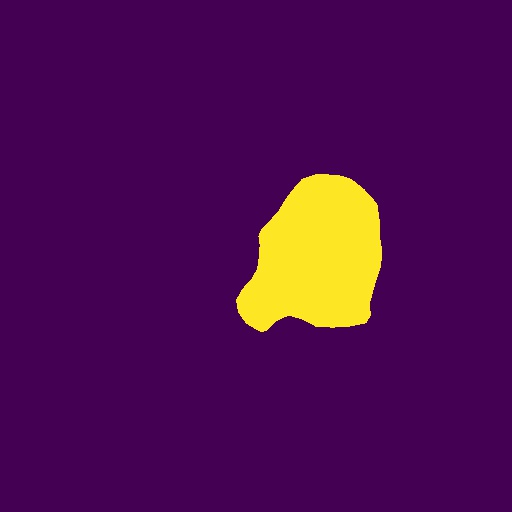Gliomia_tumour: (236, 174, 382, 332)
